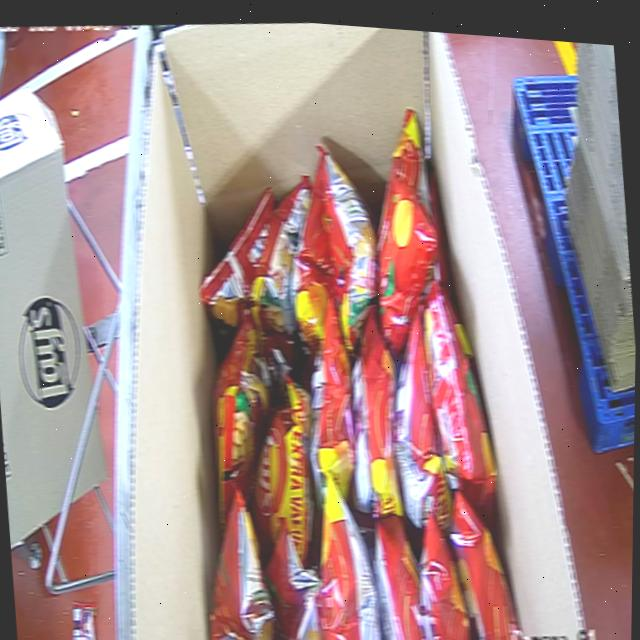MASALA: (161, 83, 534, 640)
